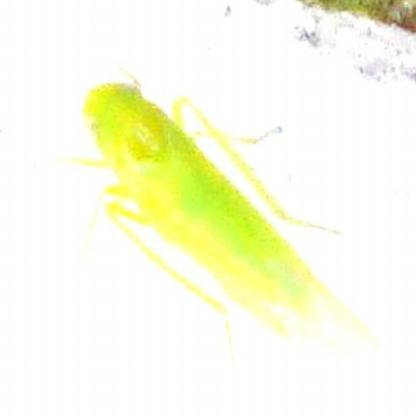green-leafhopper: (72, 80, 332, 319)
